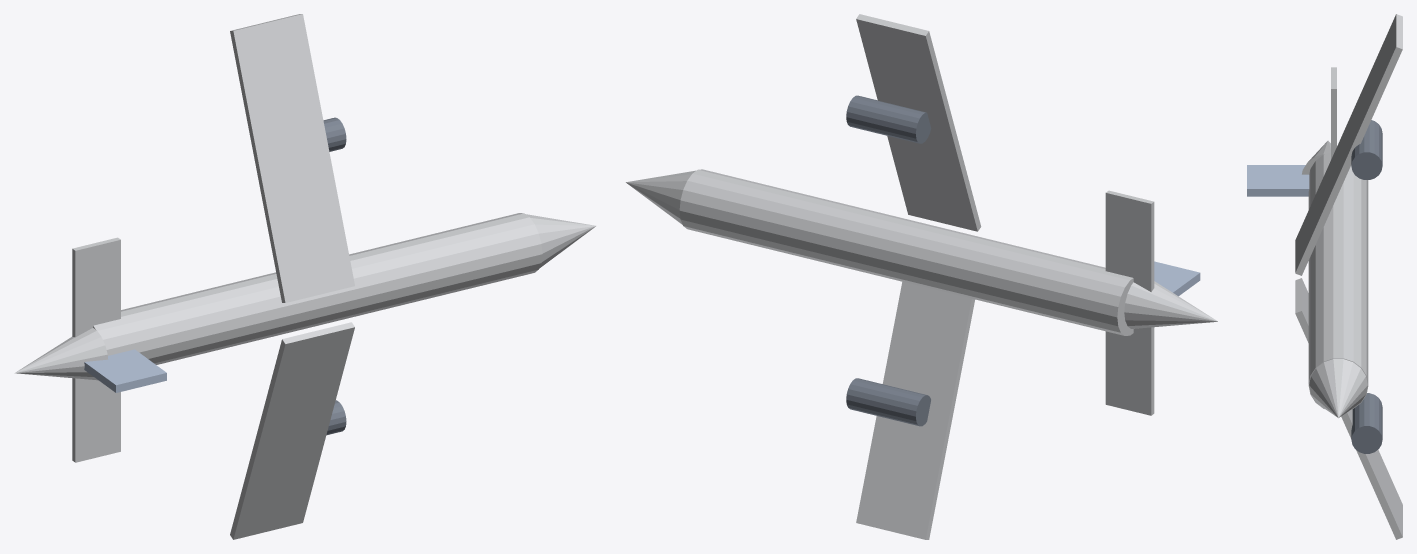
The model's file is narrow.glb.
3 renders of one model, left to right at view 1: azimuth 30°, elevation 25°; view 2: azimuth 150°, elevation 25°; view 3: azimuth 270°, elevation 25°, orthographic. The views are drawn at different scales.
Parts seen in each view (by area): view 1: body, fin, engines; view 2: body, engines, fin; view 3: body, engines, fin.
Part boxes in pixels (x1,y1,x2,y2): body: [14, 14, 595, 539]; fin: [84, 349, 166, 392]; engines: [323, 117, 346, 435]; body: [626, 14, 1217, 539]; engines: [846, 95, 931, 426]; fin: [1154, 261, 1200, 296]; body: [1295, 14, 1402, 539]; engines: [1351, 120, 1382, 453]; fin: [1247, 165, 1309, 196].
Bounding box in the file's own units: 43.88 × 36.31 × 10.39.
